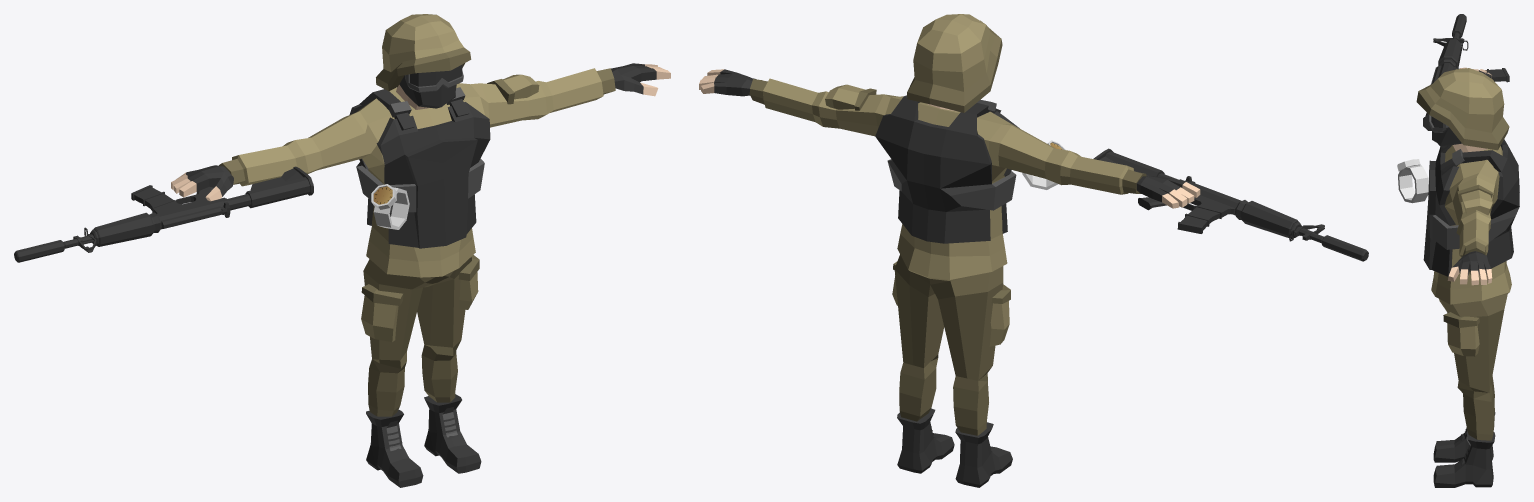
File: M_Soldier.fbx
3 renders of one model, left to right at view 1: azimuth 30°, elevation 25°; view 2: azimuth 150°, elevation 25°; view 3: azimuth 270°, elevation 25°, orthographic. The views are drawn at different scales.
Parts seen in each view (by area): view 1: Soldat, M4, M_Watch; view 2: Soldat, M4, M4 Amo; view 3: Soldat, M4, M_Watch, M4 Amo.
Part boxes in pixels (bbox=[...]): Soldat: bbox=[171, 14, 670, 487]; M4: bbox=[14, 166, 313, 262]; M_Watch: bbox=[371, 184, 409, 229]; Soldat: bbox=[699, 14, 1200, 487]; M4: bbox=[1093, 148, 1368, 261]; M4 Amo: bbox=[1177, 207, 1219, 233]; Soldat: bbox=[1416, 67, 1519, 487]; M4: bbox=[1423, 14, 1468, 130]; M_Watch: bbox=[1397, 159, 1428, 203]; M4 Amo: bbox=[1479, 68, 1509, 82].
Bounding box in the file's own units: 4951 × 3238 × 904.
